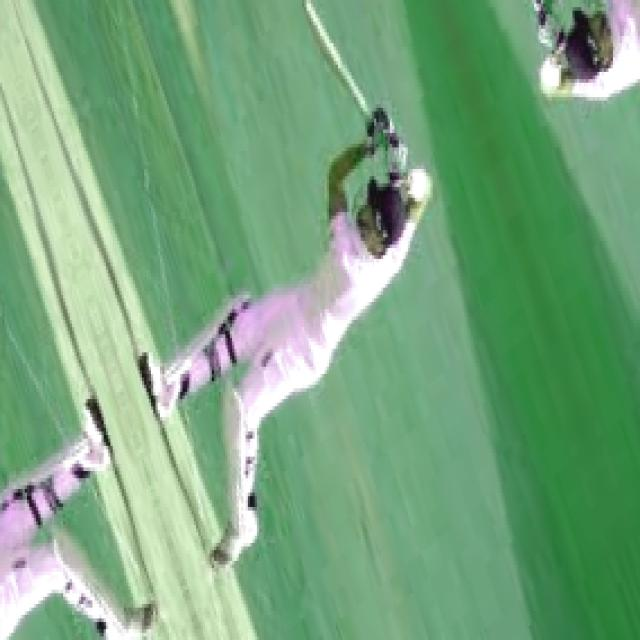toe: (300, 1, 318, 28)
